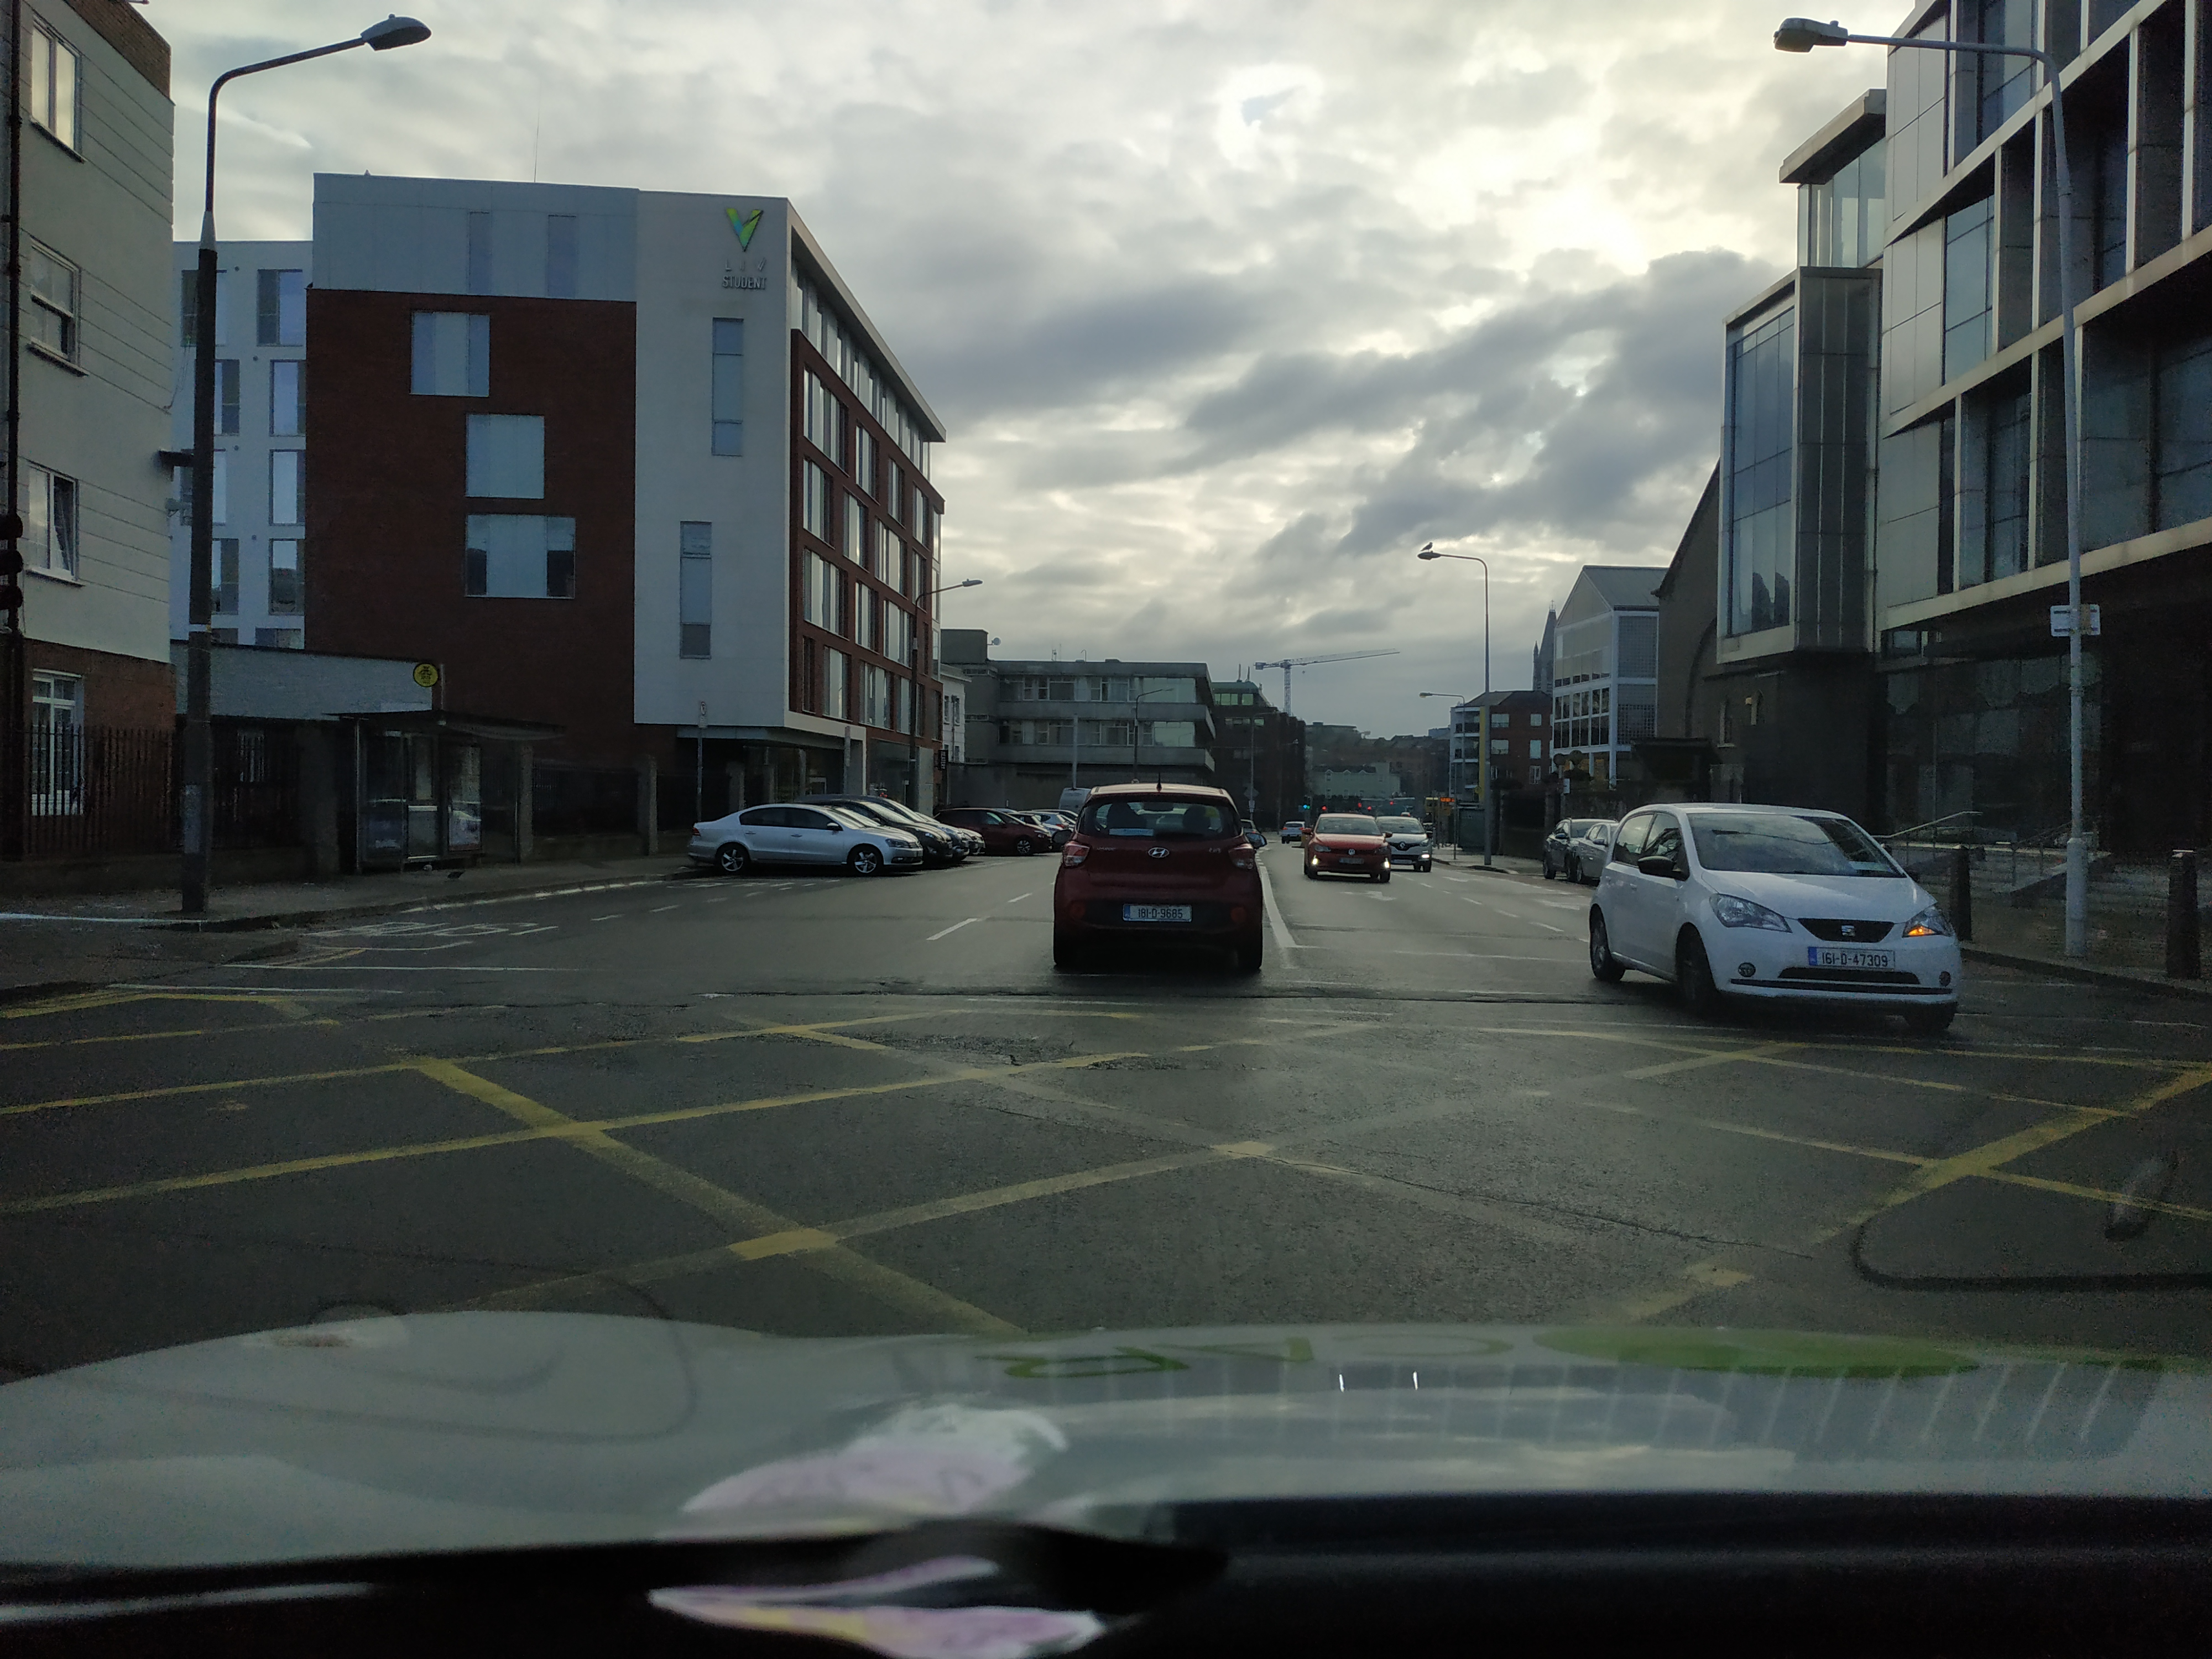Car: (1588, 802, 1963, 1032), (1054, 782, 1268, 972), (686, 803, 923, 875), (920, 809, 1052, 857), (1301, 812, 1392, 882), (1366, 816, 1432, 873)
